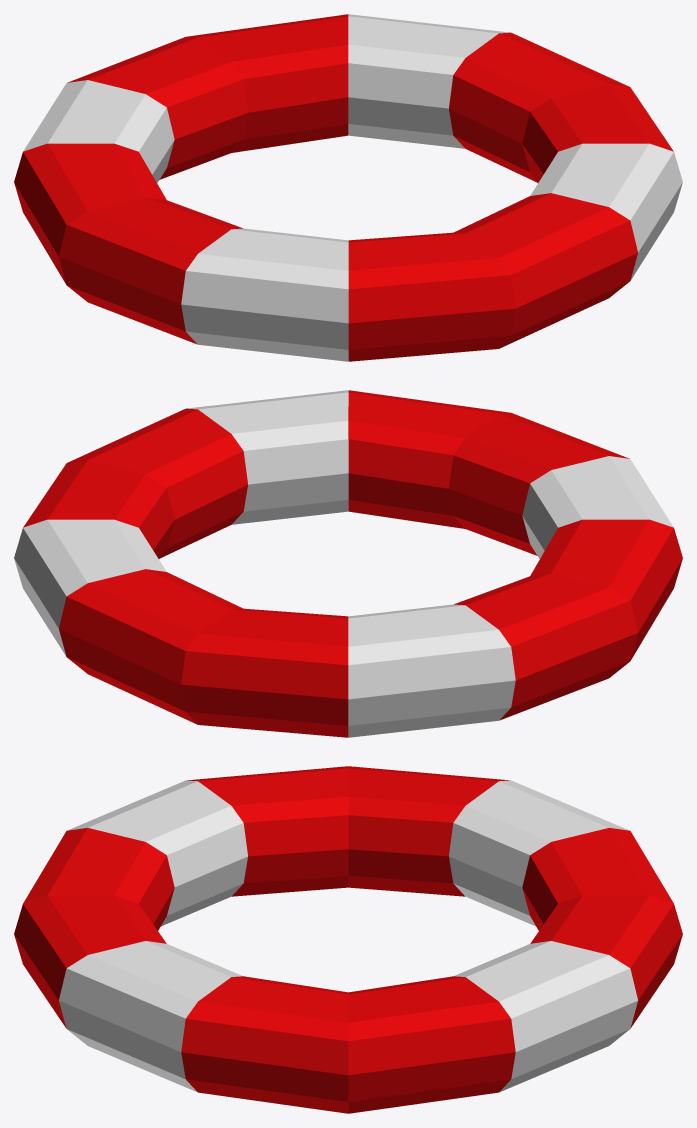
The model's file is Ring_Buoy.fbx.
3 views of the same model, one above another, from view 1: azimuth 30°, elevation 25°; view 2: azimuth 150°, elevation 25°; view 3: azimuth 270°, elevation 25° (orthographic).
Parts seen in each view (by area): view 1: Ring_Buoy; view 2: Ring_Buoy; view 3: Ring_Buoy.
Part boxes in pixels (x1,y1,x2,y2): Ring_Buoy: (14, 14, 682, 361); Ring_Buoy: (14, 390, 682, 737); Ring_Buoy: (14, 766, 682, 1113).
Size of the model in its own units: 250 by 42.59 by 250.
